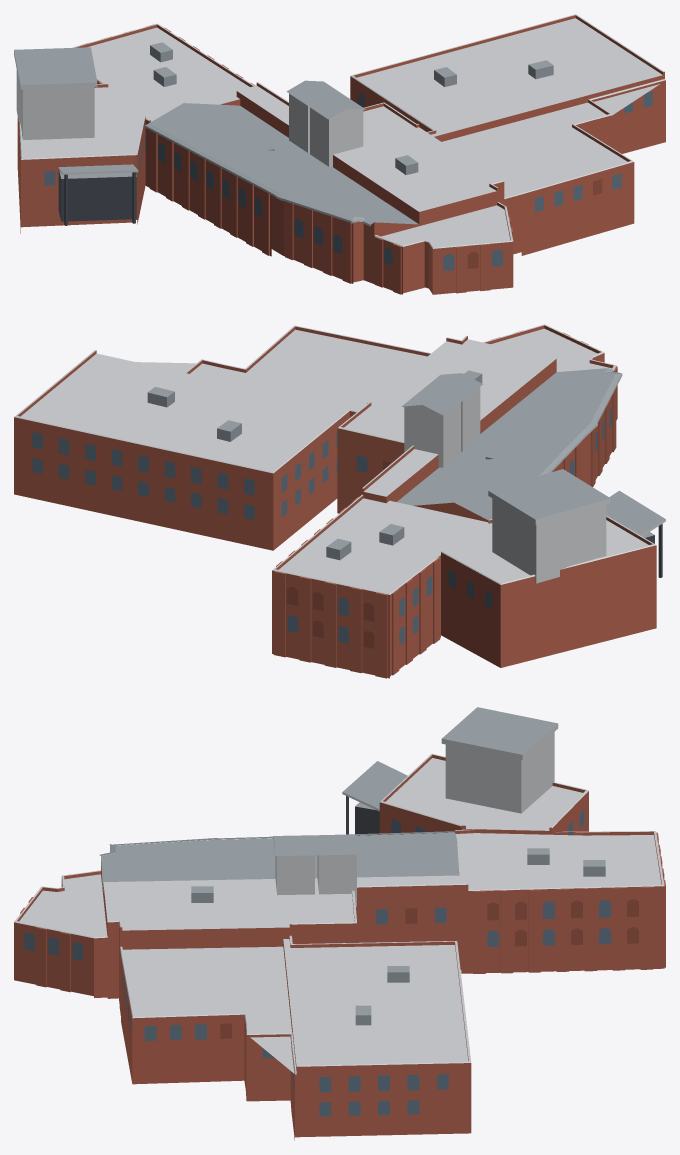
Rendered from music-factory-mill.glb.
The picture shows the model from 3 angles, top to bottom: view 1: azimuth 30°, elevation 25°; view 2: azimuth 150°, elevation 25°; view 3: azimuth 270°, elevation 25°; orthographic projection. The views are drawn at different scales.
Parts seen in each view (by area): view 1: AvidXchange Music Factory mill; view 2: AvidXchange Music Factory mill; view 3: AvidXchange Music Factory mill.
Boxes of the visible parts, left/top/right/bottom form: AvidXchange Music Factory mill: left=14, top=14, right=665, bottom=294; AvidXchange Music Factory mill: left=14, top=324, right=665, bottom=678; AvidXchange Music Factory mill: left=14, top=707, right=665, bottom=1140.
Bounding box in the file's own units: 103 × 22.72 × 93.1.
